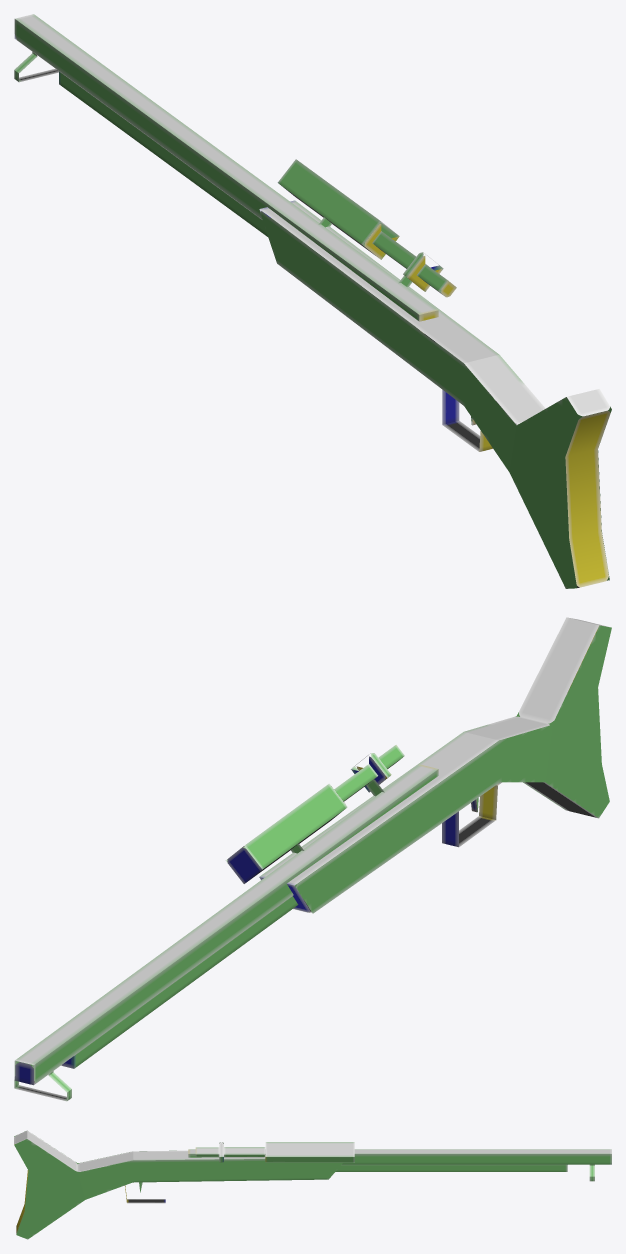
File: tuskenCyclerModel.obj
The picture shows the model from 3 angles, top to bottom: view 1: azimuth 30°, elevation 25°; view 2: azimuth 150°, elevation 25°; view 3: azimuth 270°, elevation 25°; orthographic projection. The views are drawn at different scales.
Parts seen in each view (by area): view 1: group7; view 2: group7; view 3: group7.
Part boxes in pixels (box(x1,y1,x2,y2)): group7: box(14, 14, 611, 588); group7: box(14, 617, 611, 1101); group7: box(14, 1130, 611, 1239).
Size of the model in its own units: 0.5551 by 1.44 by 7.76.
